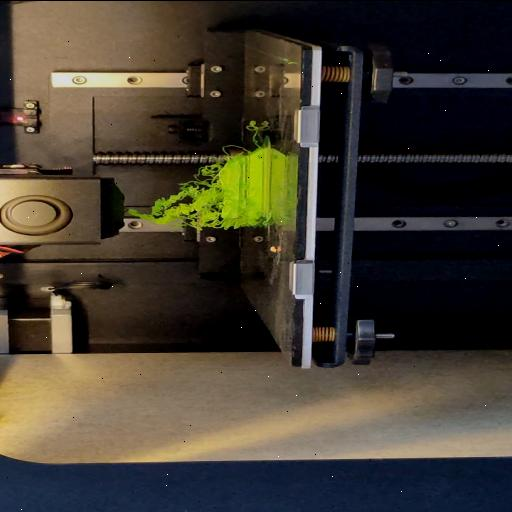spaghetti: (133, 154, 226, 232), (246, 119, 260, 146), (230, 218, 268, 226), (222, 144, 248, 152)
